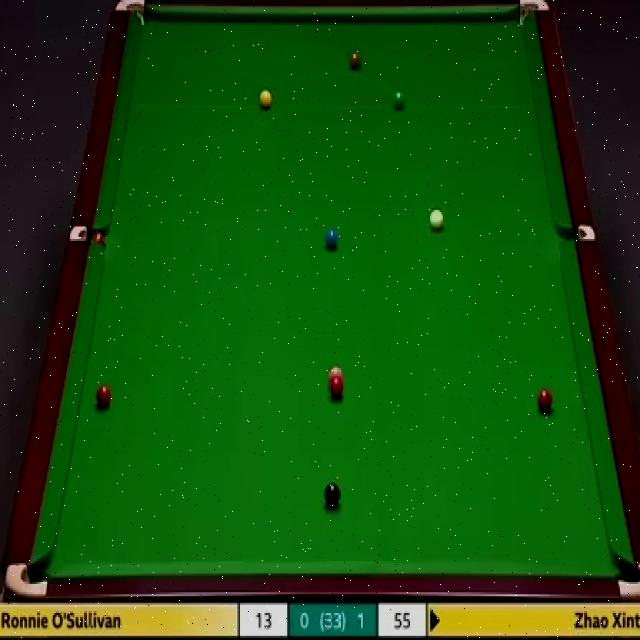black-ball: (323, 482, 342, 505)
blue-ball: (325, 229, 341, 251)
brown-ball: (348, 53, 360, 73)
green-ball: (391, 88, 405, 110)
pink-ball: (327, 365, 343, 380)
red-ball: (536, 387, 554, 412), (95, 382, 112, 408), (330, 377, 344, 398), (91, 230, 106, 246)
white-ball: (430, 208, 444, 232)
yellow-ball: (258, 88, 272, 110)
